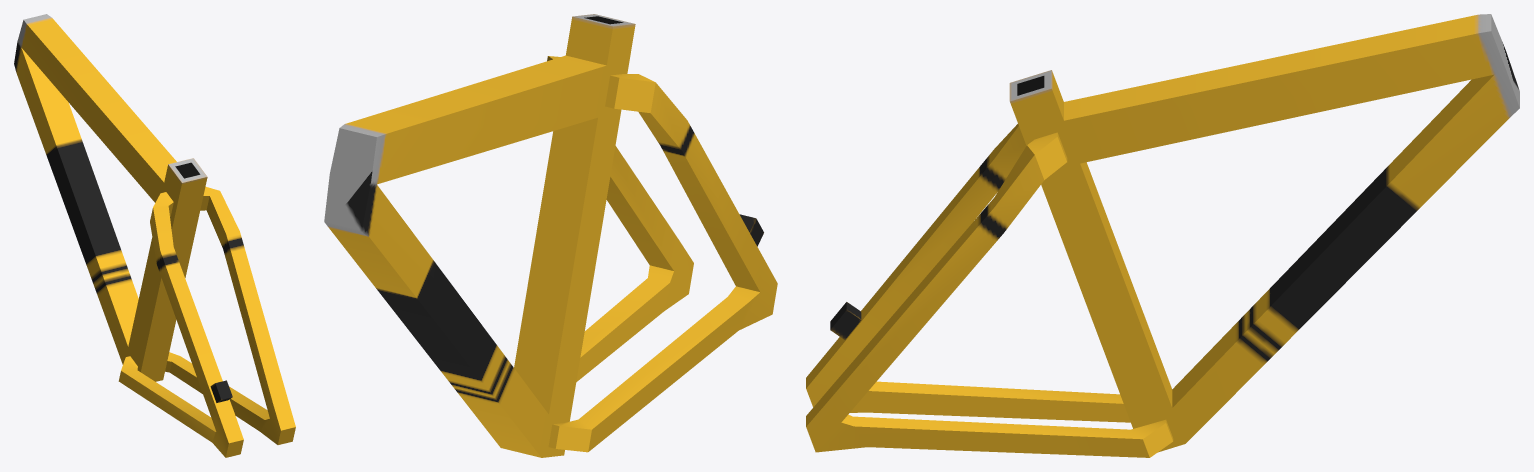
The model's file is Bike Body.fbx.
The picture shows the model from 3 angles, left to right: view 1: azimuth 30°, elevation 25°; view 2: azimuth 150°, elevation 25°; view 3: azimuth 270°, elevation 25°; orthographic projection. The views are drawn at different scales.
Parts seen in each view (by area): view 1: Mountain Bike Body; view 2: Mountain Bike Body; view 3: Mountain Bike Body.
Part boxes in pixels (x1=…): Mountain Bike Body: x1=14, y1=14, x2=295, y2=457; Mountain Bike Body: x1=324, y1=14, x2=777, y2=457; Mountain Bike Body: x1=806, y1=14, x2=1519, y2=457.
Size of the model in its own units: 34.5 by 117 by 178.
